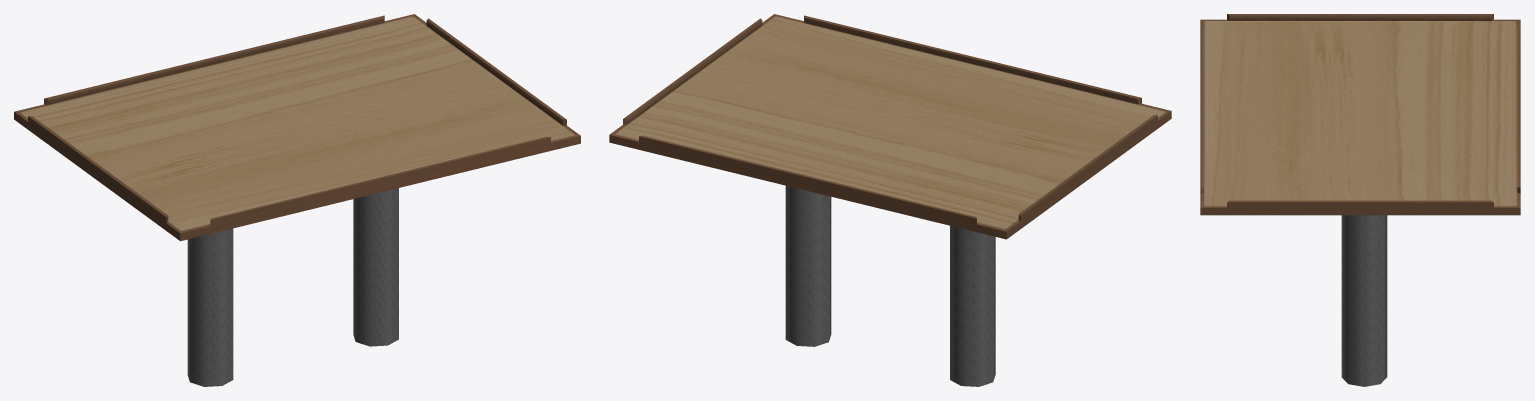
File: Table01.FBX
The picture shows the model from 3 angles, left to right: view 1: azimuth 30°, elevation 25°; view 2: azimuth 150°, elevation 25°; view 3: azimuth 270°, elevation 25°; orthographic projection. The views are drawn at different scales.
Visible parts, largest first — view 1: Table01; view 2: Table01; view 3: Table01.
Boxes of the visible parts, bbox=[...] form: Table01: bbox=[14, 14, 580, 386]; Table01: bbox=[609, 14, 1171, 386]; Table01: bbox=[1200, 14, 1520, 386].
Bounding box in the file's own units: 1.37 × 0.7865 × 0.9881.
